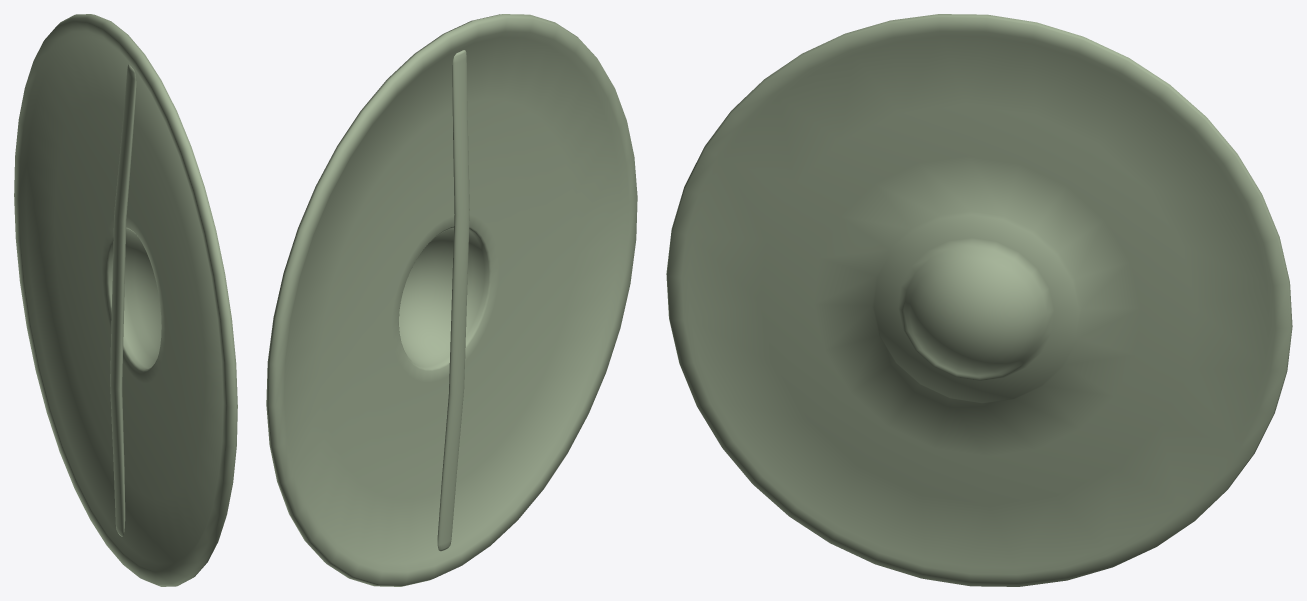
Rendered from Shield.FBX.
3 renders of one model, left to right at view 1: azimuth 30°, elevation 25°; view 2: azimuth 150°, elevation 25°; view 3: azimuth 270°, elevation 25°, orthographic. The views are drawn at different scales.
Parts seen in each view (by area): view 1: Blacksmith_Shields; view 2: Blacksmith_Shields; view 3: Blacksmith_Shields.
Boxes of the visible parts, x1,y1,x2,y2 form: Blacksmith_Shields: [14, 14, 237, 586]; Blacksmith_Shields: [266, 14, 637, 586]; Blacksmith_Shields: [666, 14, 1292, 586].
Size of the model in its own units: 6.95 by 35.97 by 35.61.
